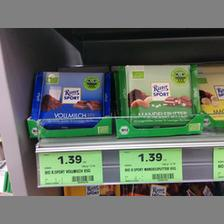Schokolade: (117, 64, 197, 128), (28, 68, 108, 128)
